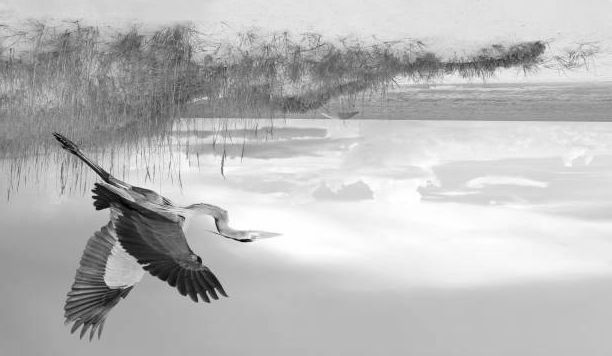Bird: (51, 128, 284, 343)
